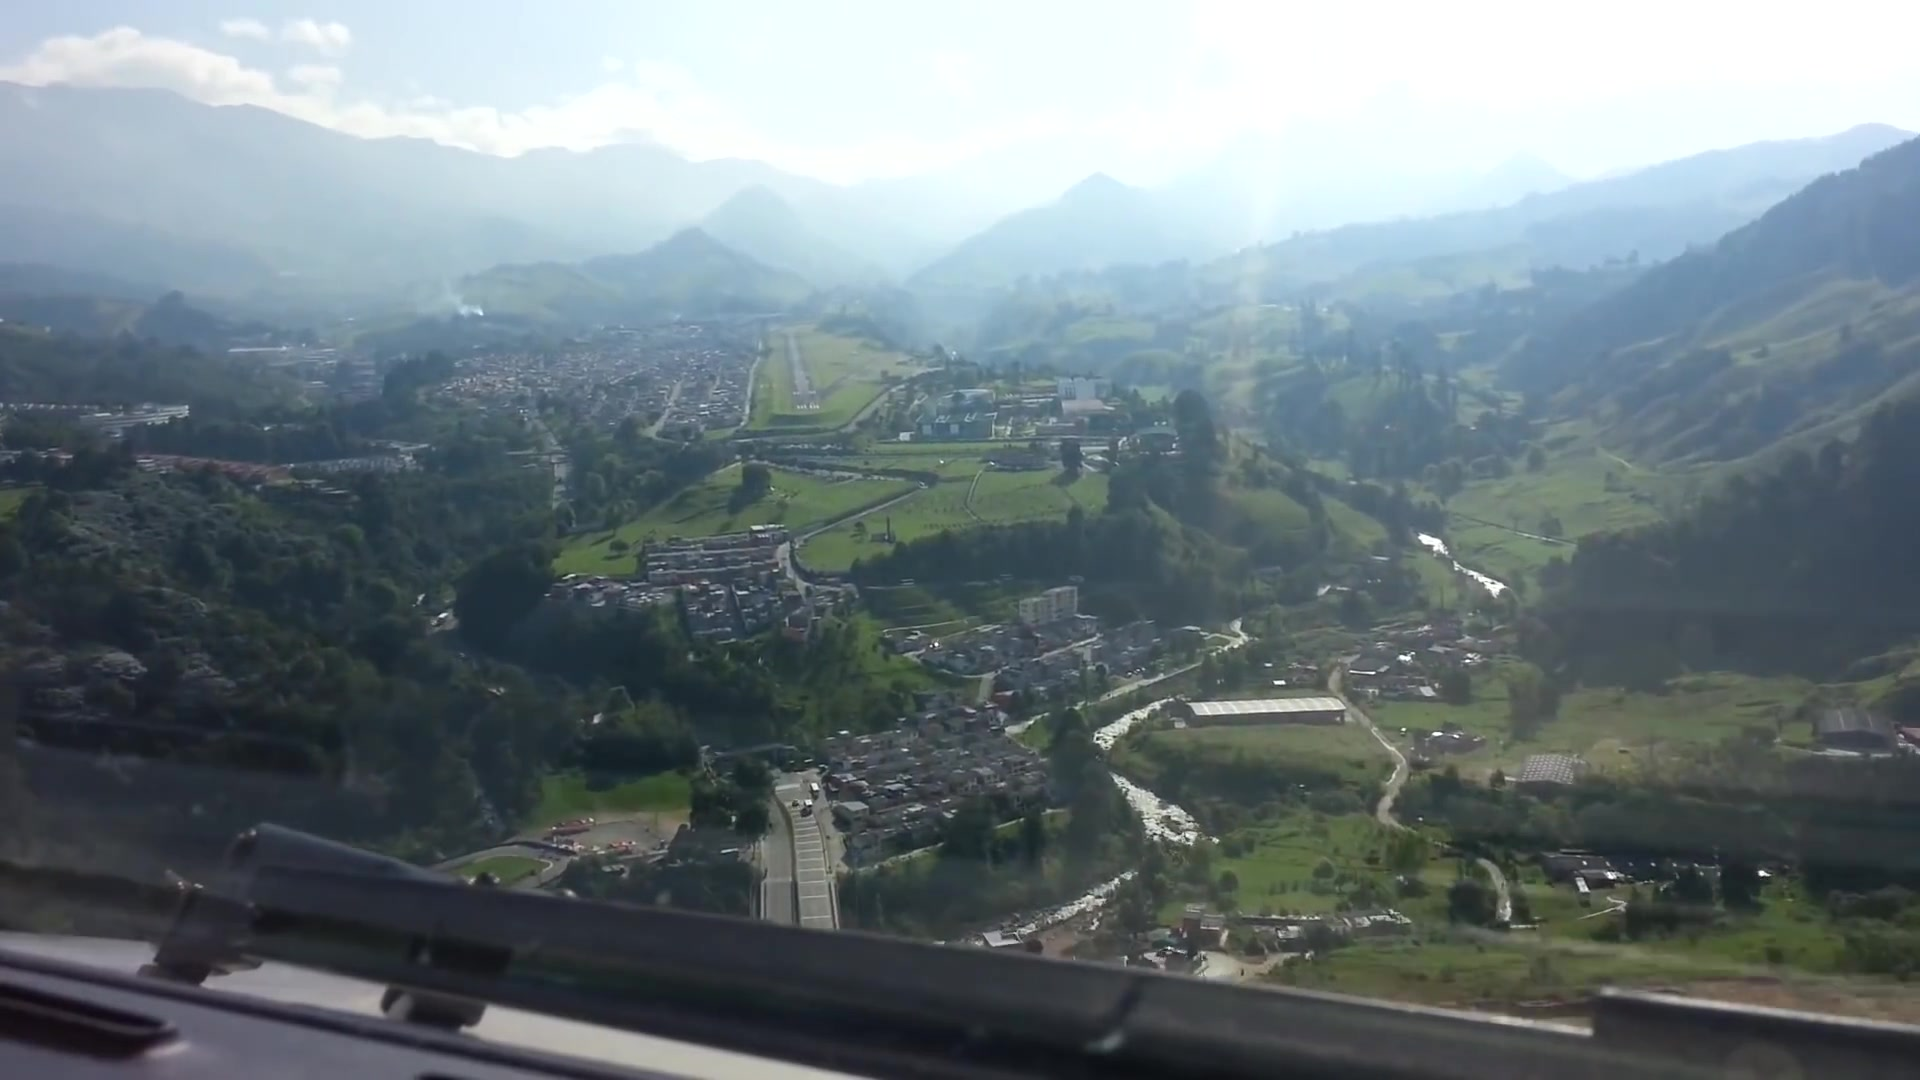runway: (785, 330, 822, 413)
